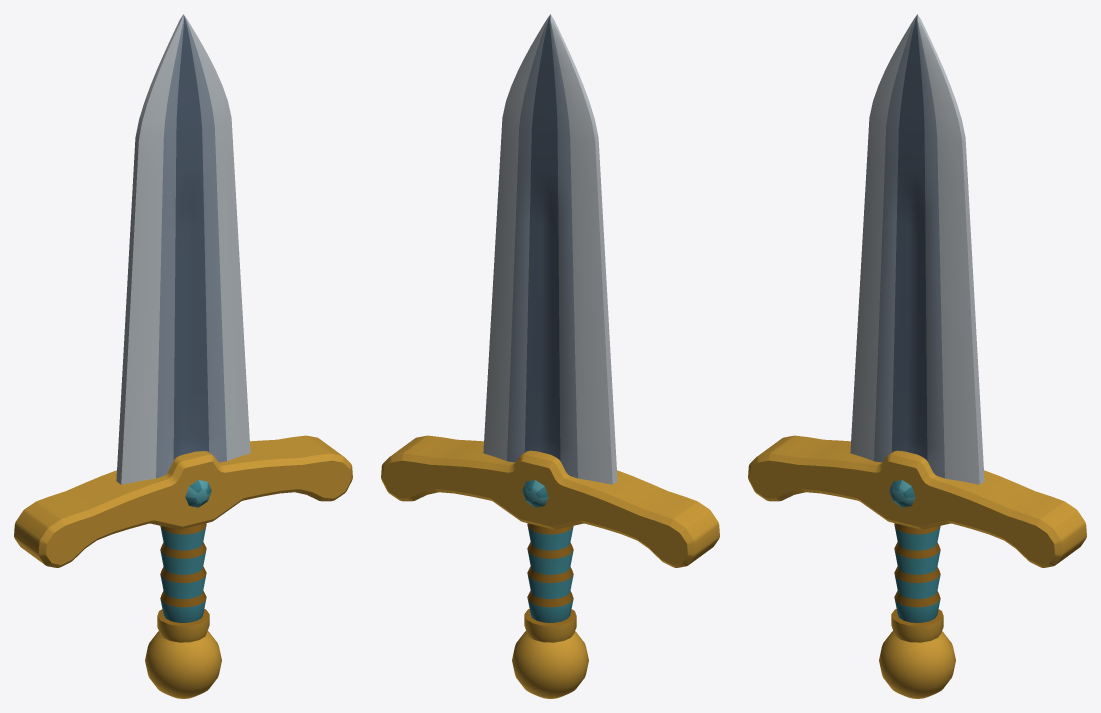
File: Broadsword_24.glb
The picture shows the model from 3 angles, left to right: view 1: azimuth 30°, elevation 25°; view 2: azimuth 150°, elevation 25°; view 3: azimuth 330°, elevation 25°; orthographic projection.
Visible parts, largest first — view 1: Broadsword_24; view 2: Broadsword_24; view 3: Broadsword_24.
Boxes of the visible parts, x1,y1,x2,y2 form: Broadsword_24: [14, 14, 352, 698]; Broadsword_24: [381, 14, 719, 698]; Broadsword_24: [748, 14, 1086, 698].
Bounding box in the file's own units: 2.99 × 6.2 × 0.636.
